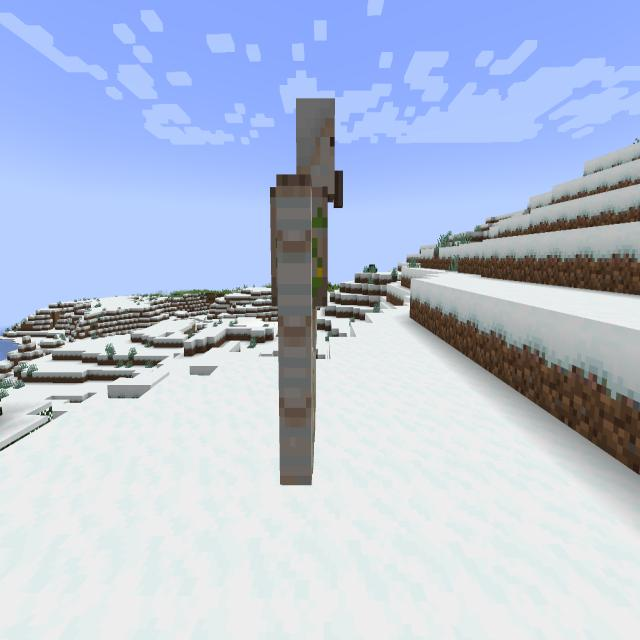iron golem: (253, 81, 353, 508)
